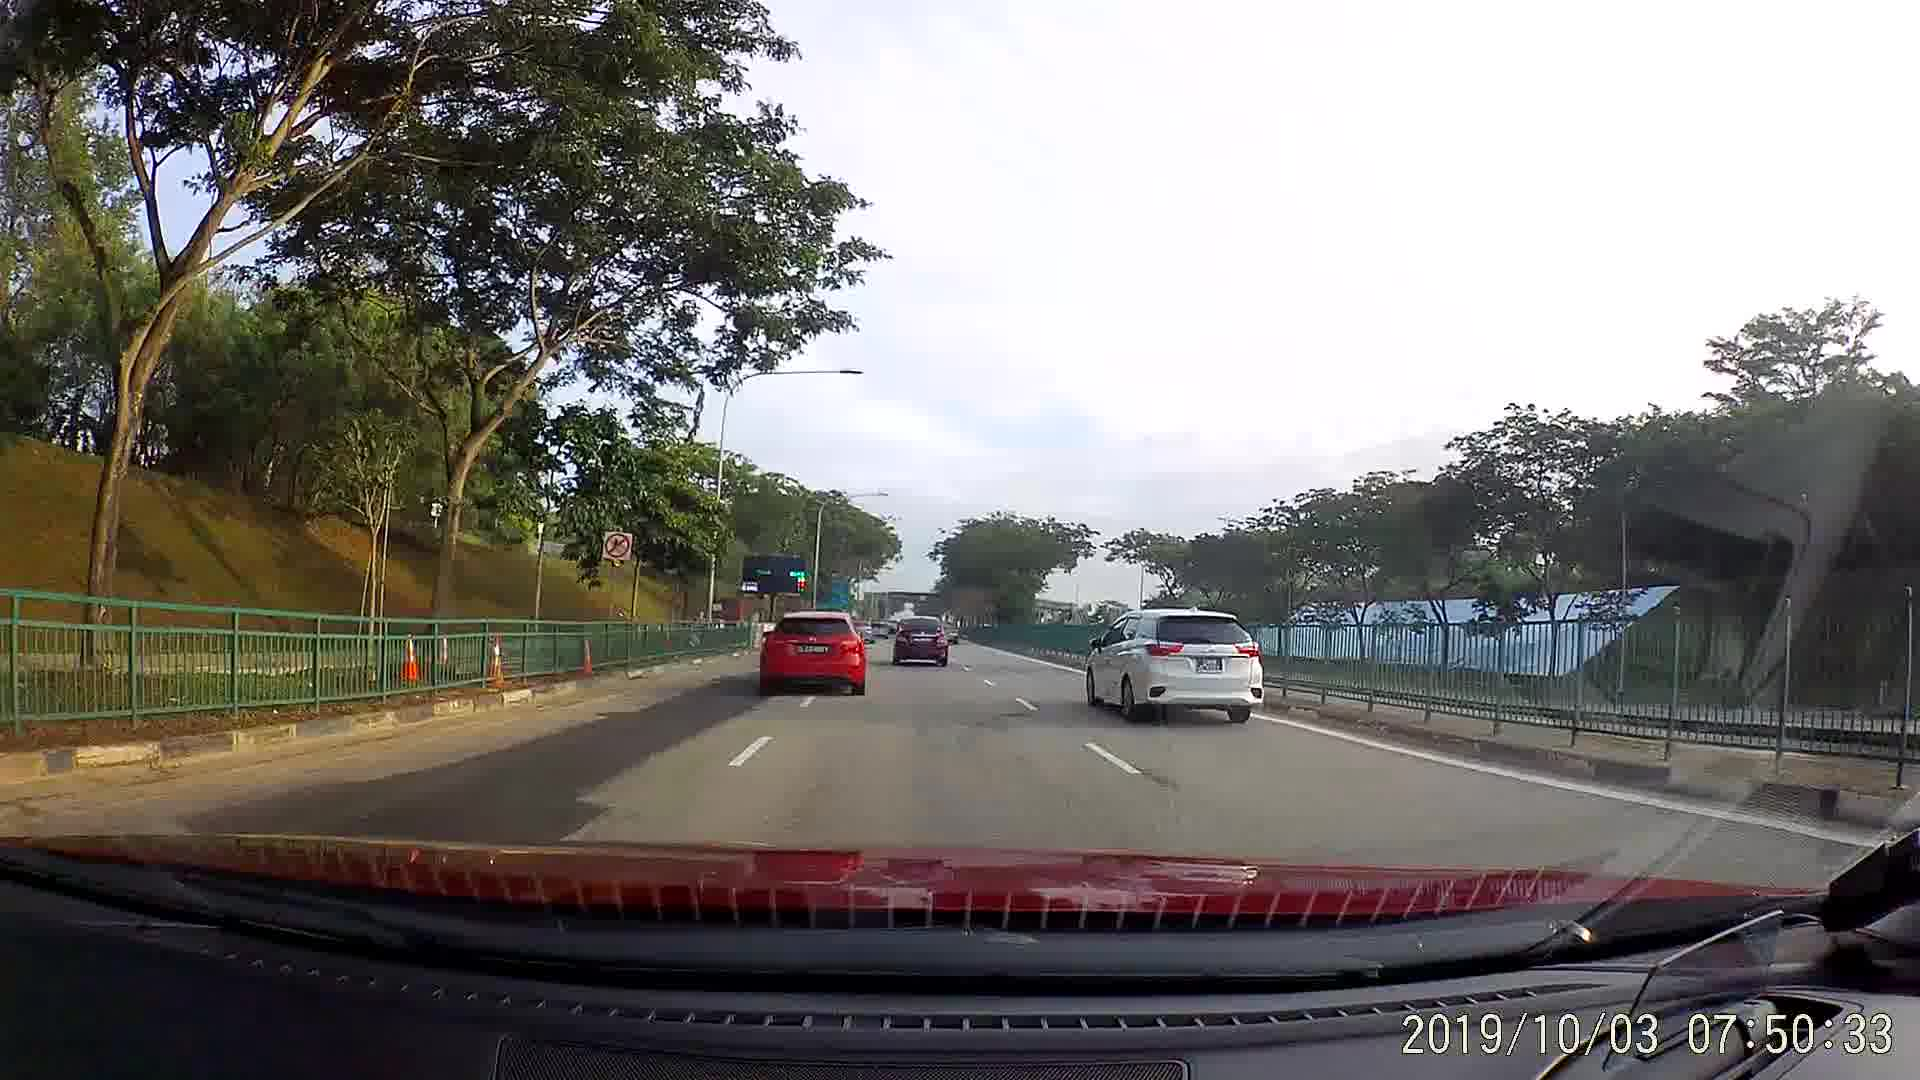car: (1075, 603, 1276, 729), (760, 607, 866, 702), (889, 609, 951, 674)
